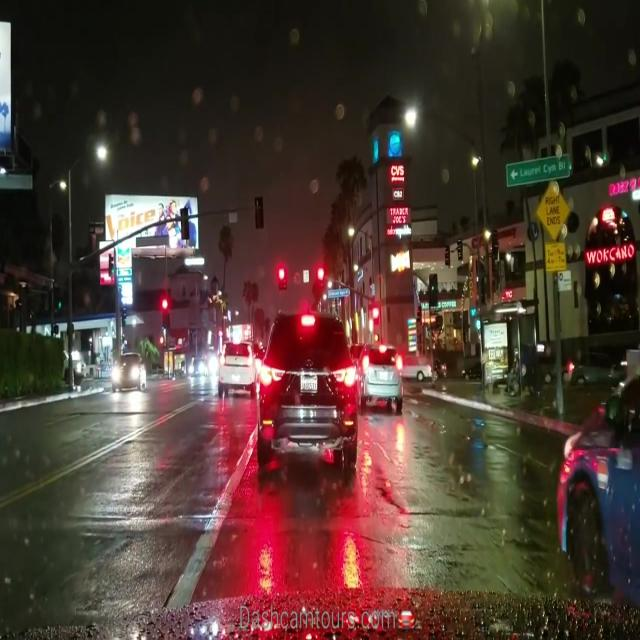Car: (257, 305, 357, 465), (356, 342, 402, 405), (217, 341, 252, 399), (111, 353, 142, 388)
